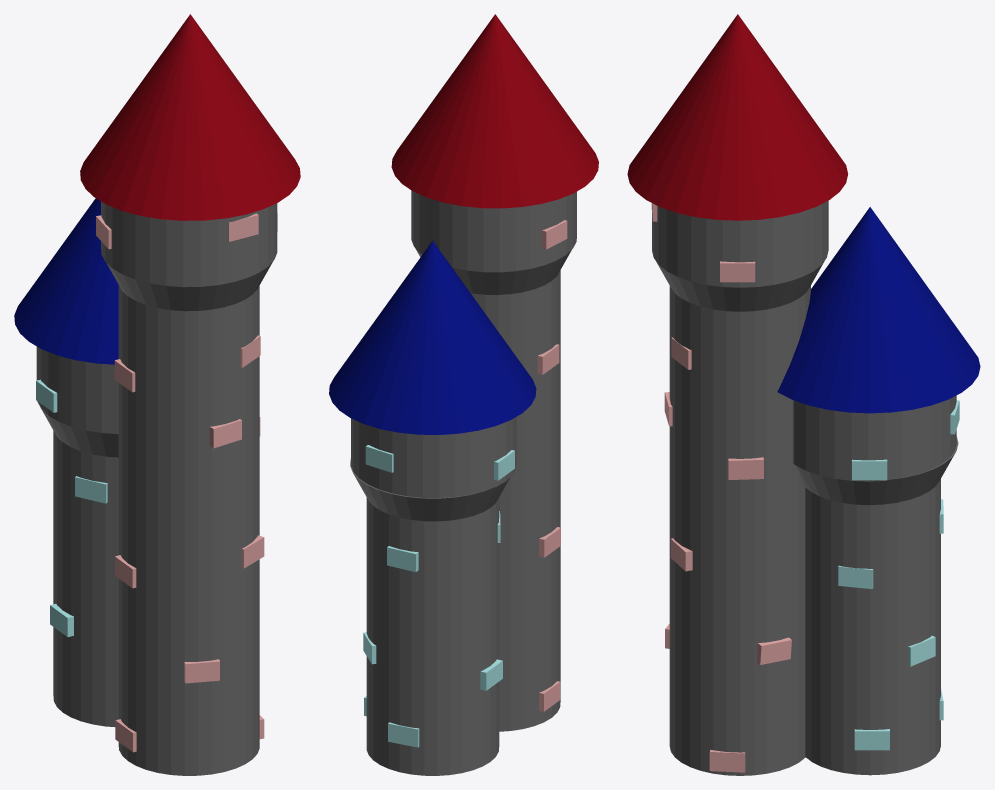
The model's file is mageTower.fbx.
3 renders of one model, left to right at view 1: azimuth 30°, elevation 25°; view 2: azimuth 150°, elevation 25°; view 3: azimuth 270°, elevation 25°, orthographic. The views are drawn at different scales.
Parts seen in each view (by area): view 1: Cylinder, Cone.001, Cylinder.001, Cylinder.003, Cone.002, Cylinder.002, Cone, Cone.003, Cube.003, Cube.015, Cube.022, Cube.016 (+2 smaller); view 2: Cylinder.001, Cone.001, Cone.002, Cylinder, Cylinder.003, Cylinder.002, Cone.003, Cone, Cube.009, Cube.006, Cube.011, Cube.020 (+2 smaller); view 3: Cylinder, Cylinder.001, Cone.001, Cone.002, Cylinder.003, Cylinder.002, Cone, Cone.003, Cube.012, Cube.005, Cube.001, Cube.014 (+3 smaller).
Part boxes in pixels (bbox=[...]): Cylinder: bbox=[118, 285, 259, 775]; Cone.001: bbox=[80, 14, 300, 220]; Cylinder.001: bbox=[53, 431, 118, 726]; Cylinder.003: bbox=[101, 201, 277, 287]; Cone.002: bbox=[14, 198, 118, 364]; Cylinder.002: bbox=[36, 346, 118, 434]; Cone: bbox=[107, 262, 272, 311]; Cone.003: bbox=[37, 401, 118, 457]; Cube.003: bbox=[184, 659, 219, 683]; Cube.015: bbox=[209, 419, 241, 448]; Cube.022: bbox=[75, 476, 107, 503]; Cube.016: bbox=[228, 213, 258, 241]; Cylinder.001: bbox=[366, 497, 499, 775]; Cone.001: bbox=[391, 14, 598, 208]; Cone.002: bbox=[329, 240, 536, 434]; Cylinder: bbox=[471, 270, 560, 731]; Cylinder.003: bbox=[411, 190, 576, 272]; Cylinder.002: bbox=[351, 417, 516, 497]; Cone.003: bbox=[350, 459, 509, 521]; Cone: bbox=[415, 248, 571, 294]; Cube.009: bbox=[387, 546, 418, 572]; Cube.006: bbox=[388, 722, 419, 747]; Cube.011: bbox=[365, 445, 393, 472]; Cube.020: bbox=[542, 220, 567, 249]; Cylinder: bbox=[669, 285, 810, 775]; Cylinder.001: bbox=[805, 479, 940, 775]; Cone.001: bbox=[627, 14, 847, 220]; Cone.002: bbox=[777, 207, 980, 413]; Cylinder.003: bbox=[652, 200, 828, 287]; Cylinder.002: bbox=[793, 395, 956, 481]; Cone: bbox=[656, 261, 824, 311]; Cone.003: bbox=[796, 436, 958, 505]; Cube.012: bbox=[728, 457, 763, 479]; Cube.005: bbox=[854, 729, 889, 750]; Cube.001: bbox=[709, 749, 745, 772]; Cube.014: bbox=[720, 261, 755, 282].
Bounding box in the file's own units: 251 × 915 × 400.
